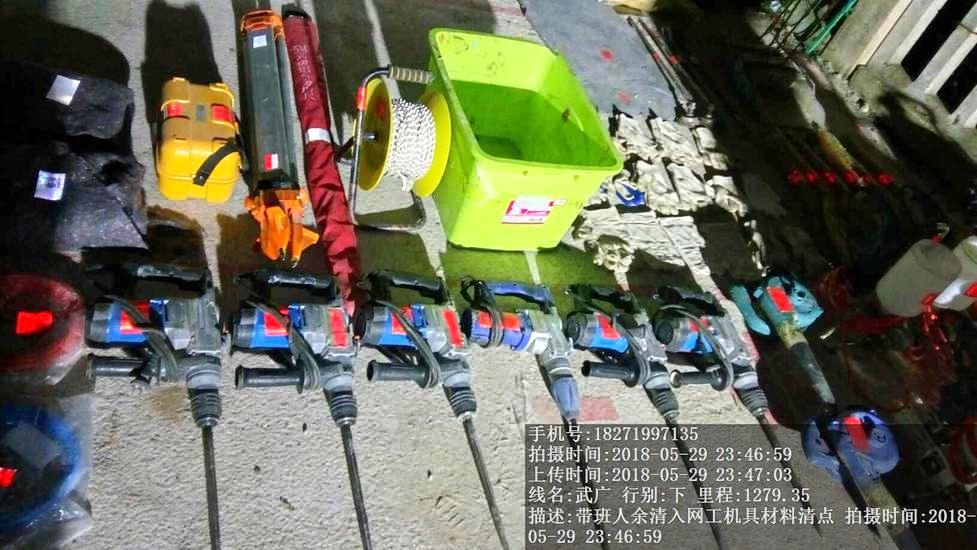DX: (347, 69, 437, 231)
DZ: (94, 281, 230, 539), (234, 277, 355, 462), (361, 268, 480, 437), (472, 268, 587, 429), (575, 276, 683, 429)
GFJ: (738, 268, 840, 413)
T: (428, 29, 619, 259)
